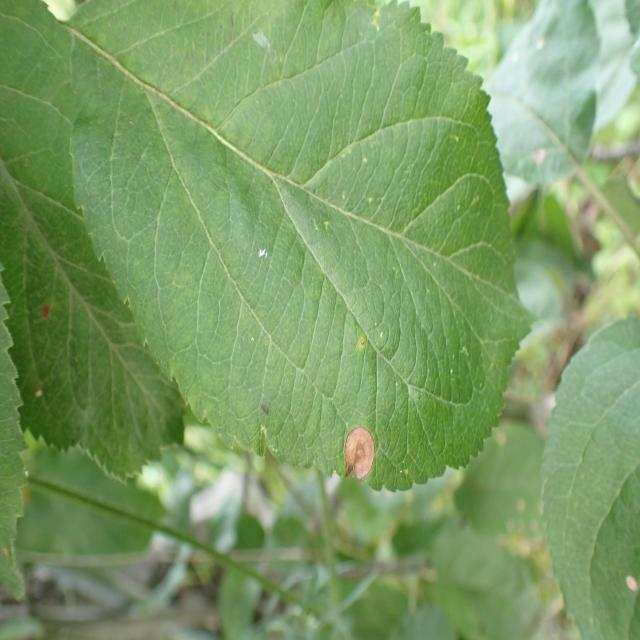Black Rot: (337, 403, 384, 505), (34, 291, 58, 334)
